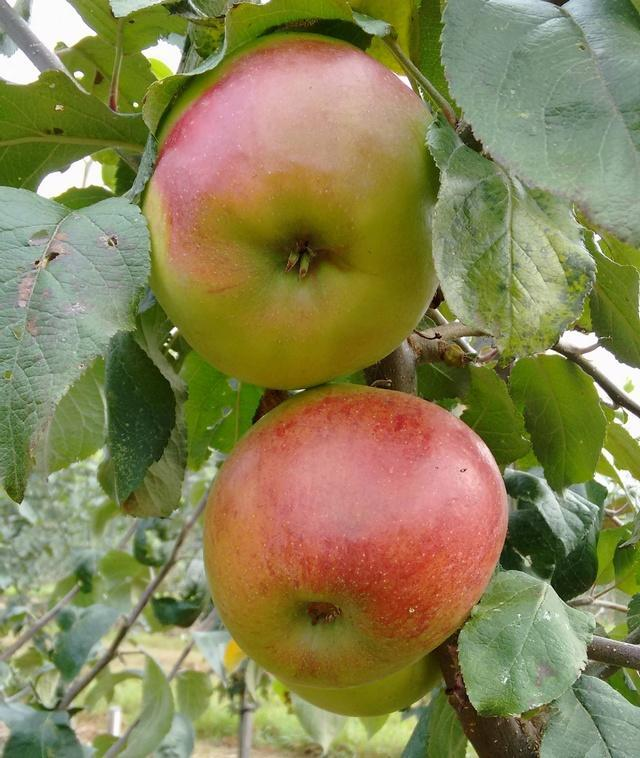apple: (137, 32, 446, 390), (198, 381, 509, 684)
